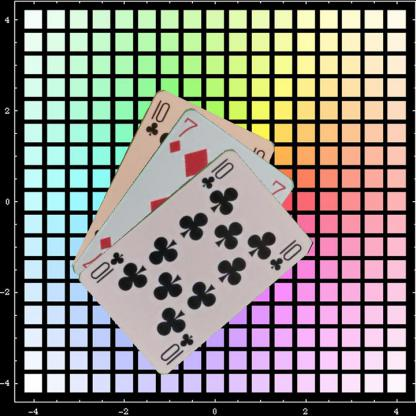10c: (198, 155, 235, 190), (142, 96, 172, 138), (157, 330, 195, 362)
7d: (166, 114, 199, 154)
